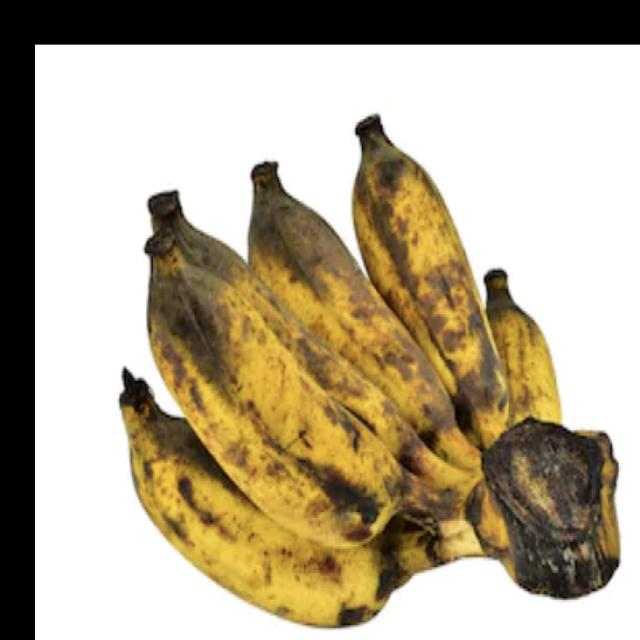banana: (0, 48, 538, 563)
